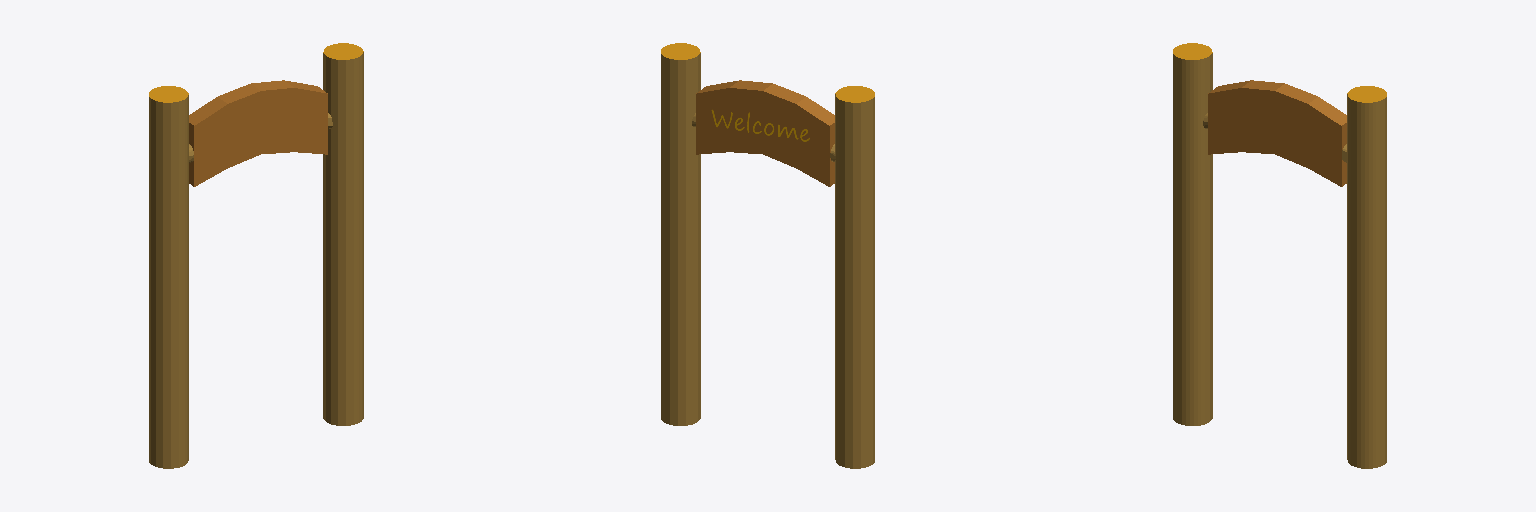
3 views of the same model, side by side, from view 1: azimuth 30°, elevation 25°; view 2: azimuth 150°, elevation 25°; view 3: azimuth 330°, elevation 25° (orthographic).
Visible parts, largest first — view 1: board; view 2: board; view 3: board.
Part boxes in pixels (bbox=[...]): board: bbox=[149, 43, 363, 468]; board: bbox=[661, 43, 874, 468]; board: bbox=[1173, 43, 1386, 468].
Size of the model in its own units: 12 by 20 by 2.
1 materials, 1 textured.